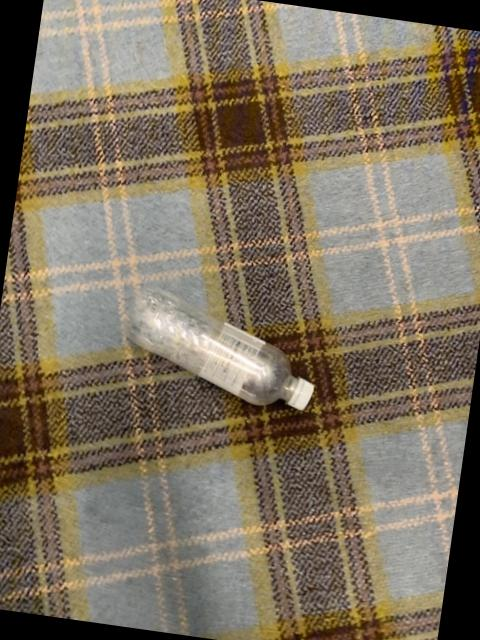plastic: (122, 286, 312, 407)
